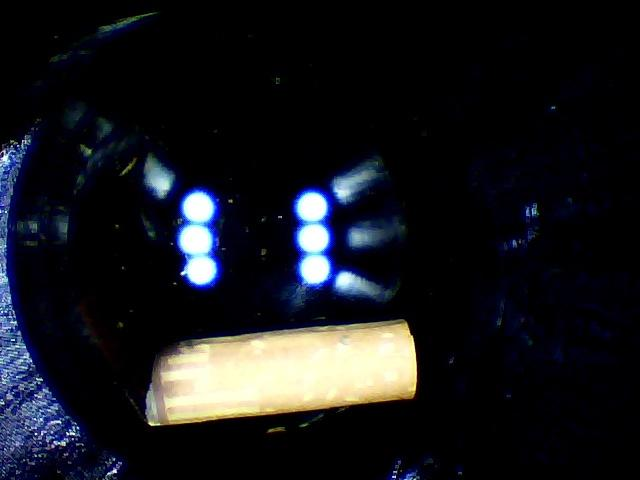megot: (124, 312, 427, 432)
